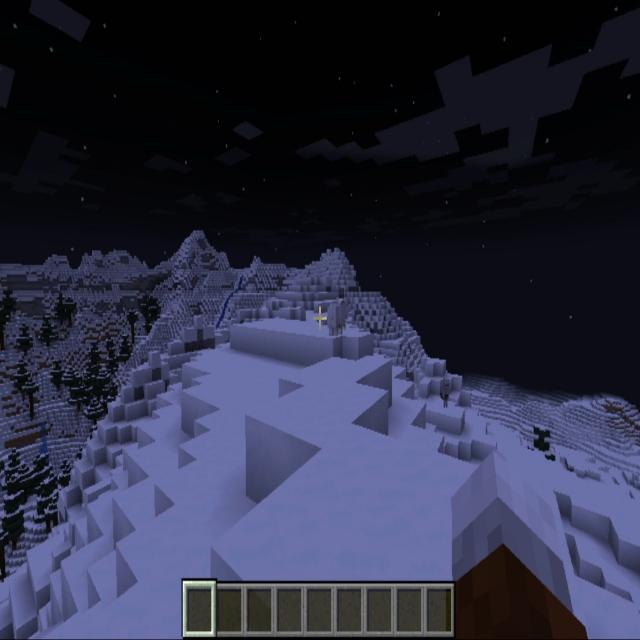Goat: (328, 287, 347, 338)
Skeleton: (439, 376, 451, 409)
